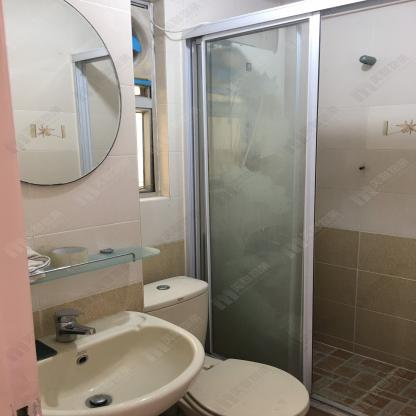Toilet: (178, 356, 310, 416), (142, 275, 212, 351)
Toilet Sink: (36, 309, 207, 416)
